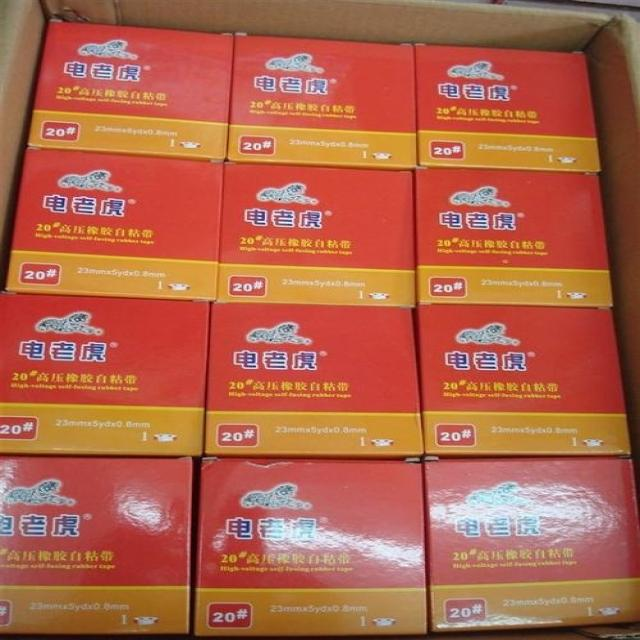box: (195, 456, 429, 634), (421, 455, 640, 633), (204, 302, 425, 461), (5, 143, 225, 302), (0, 454, 195, 633), (0, 291, 211, 455), (415, 306, 630, 455), (215, 163, 419, 308), (27, 20, 232, 164), (415, 167, 613, 309), (225, 34, 416, 170), (415, 46, 602, 175)
